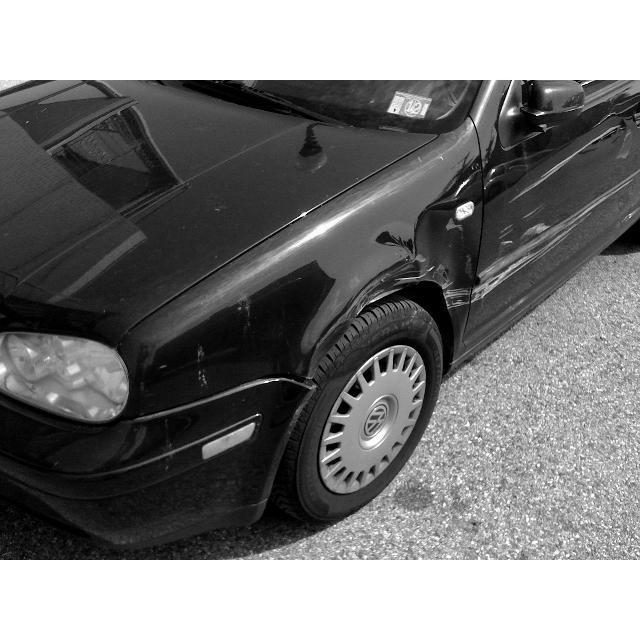fender-dent: (367, 177, 493, 332)
